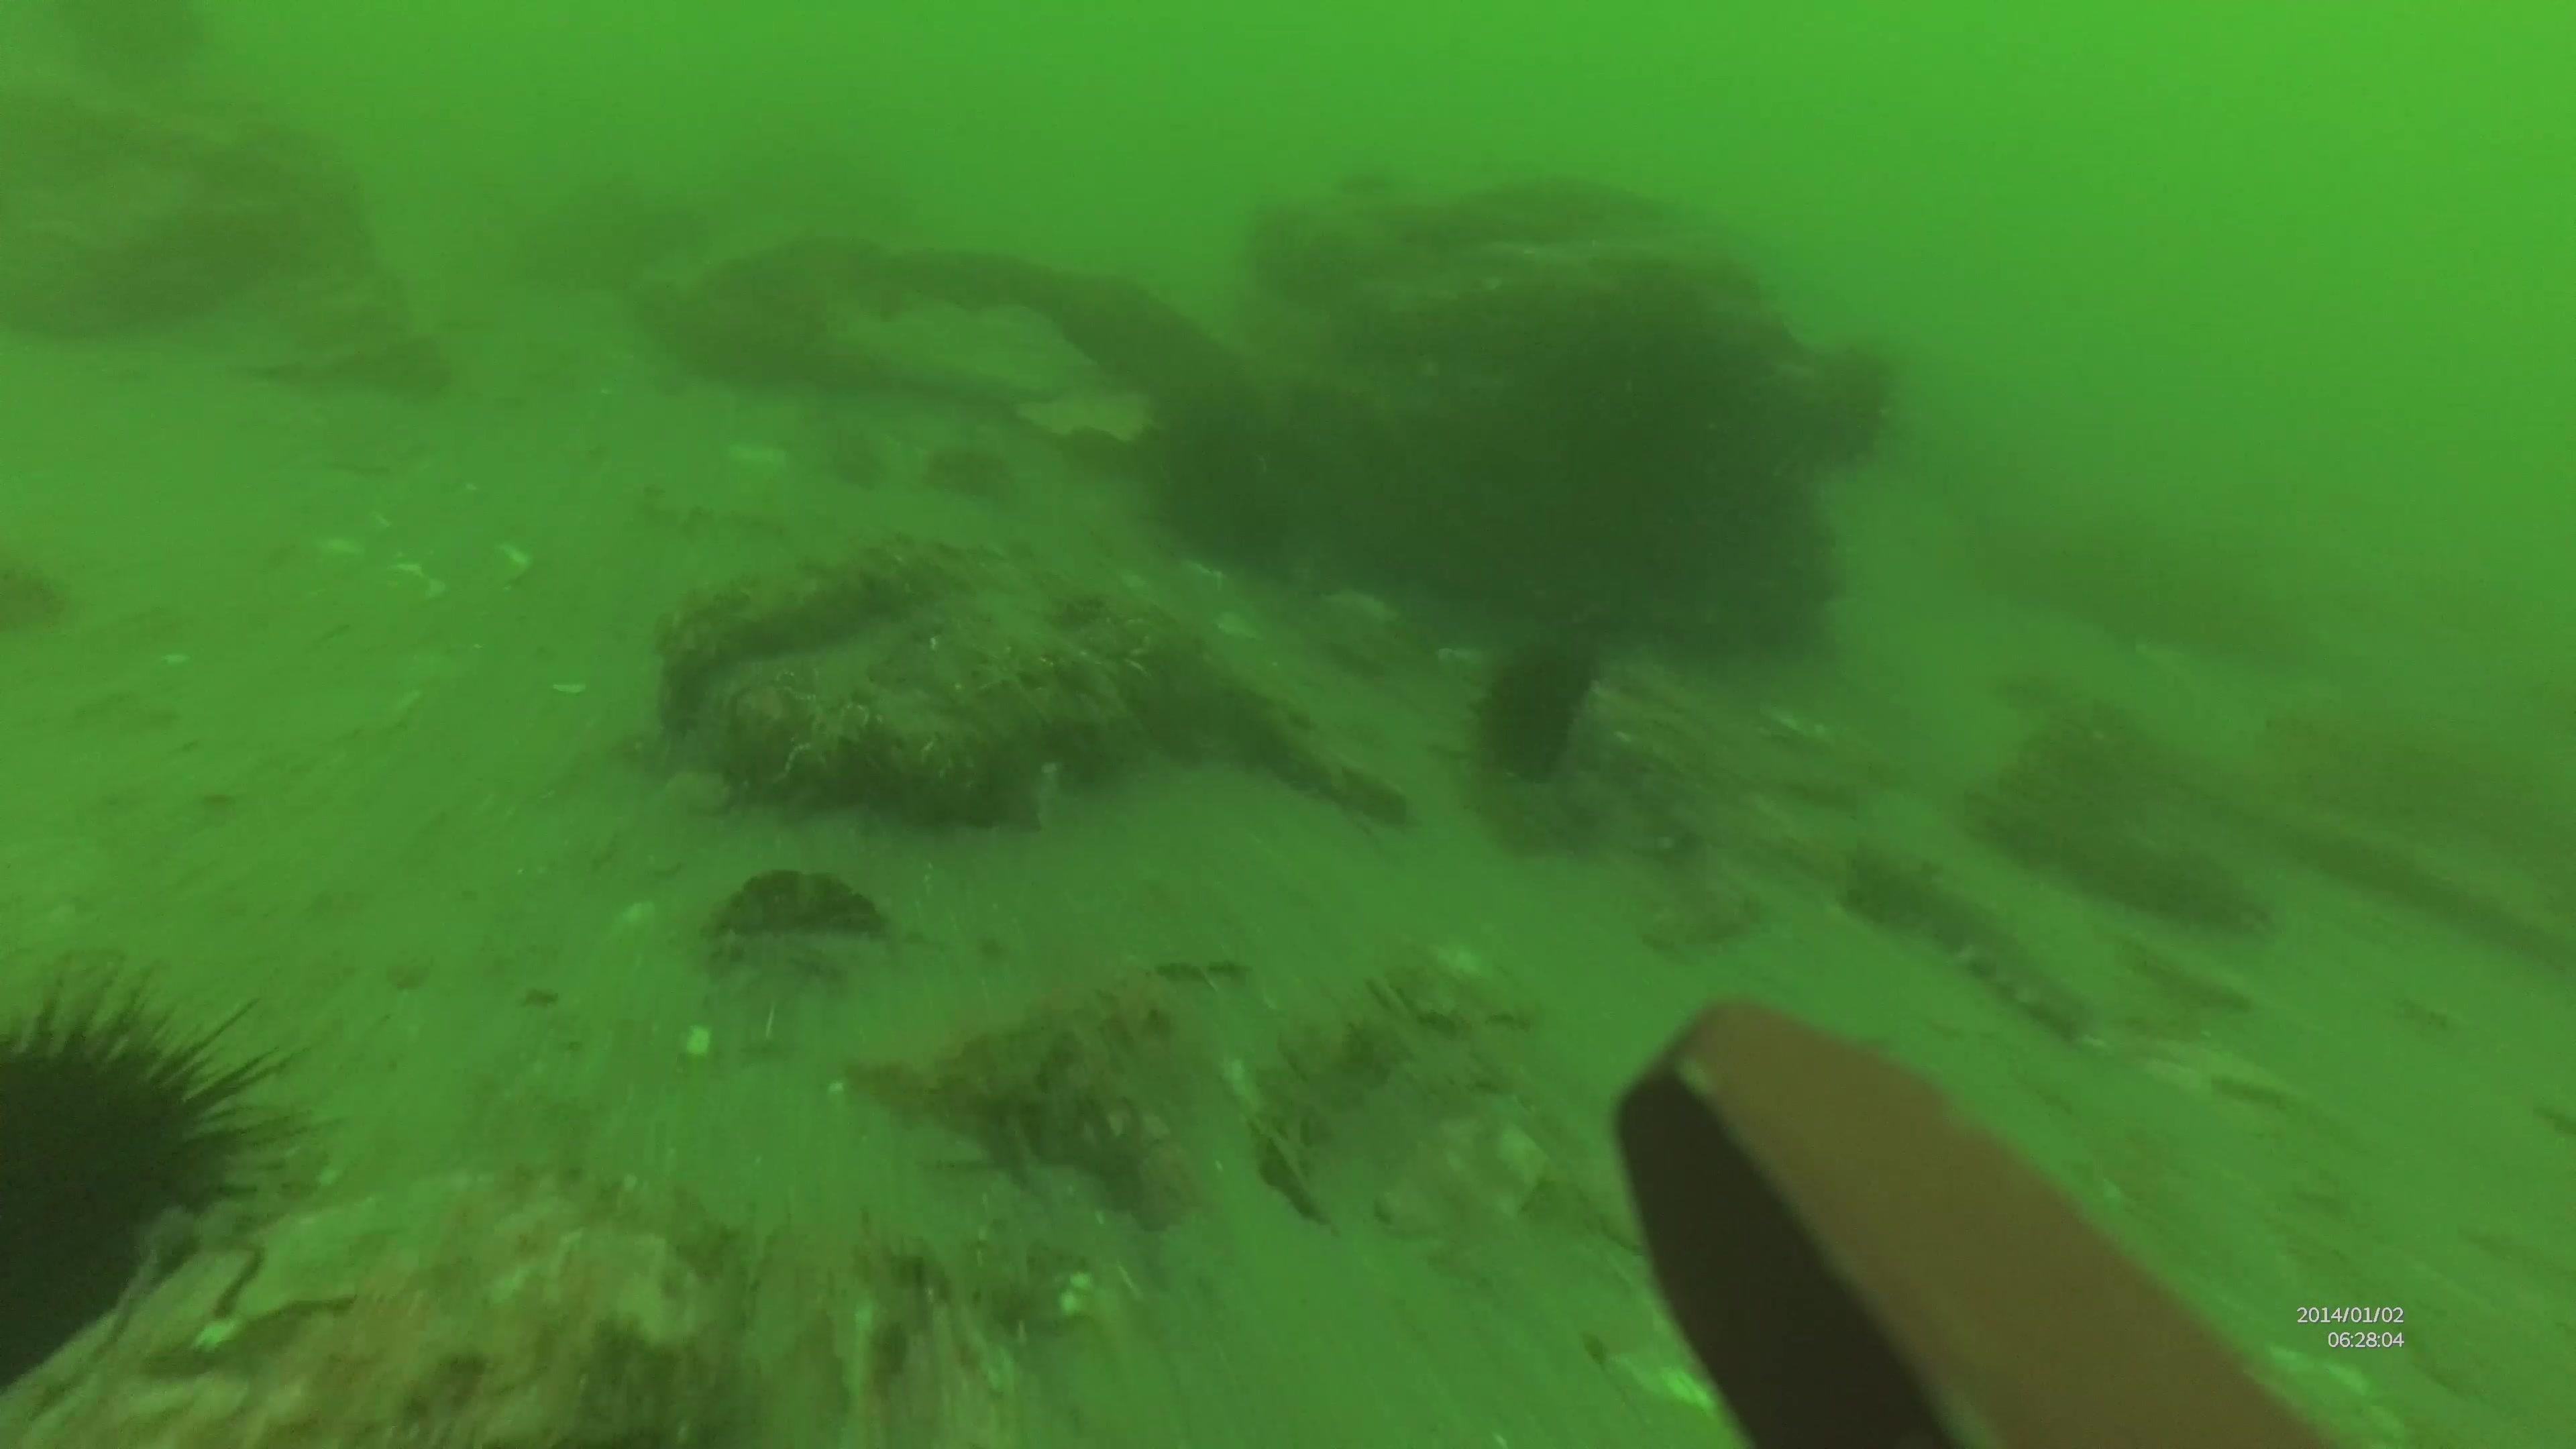echinus: (0, 1000, 301, 1373)
holothurian: (1842, 849, 2105, 1040)
